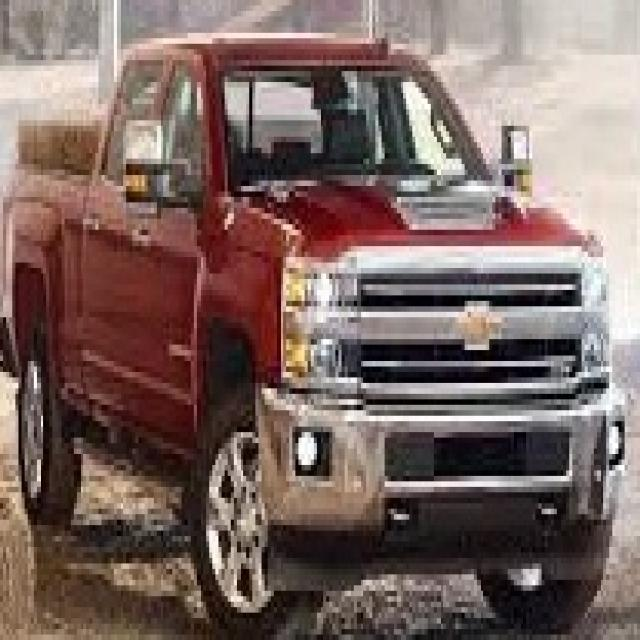maroon: (6, 34, 622, 594)
